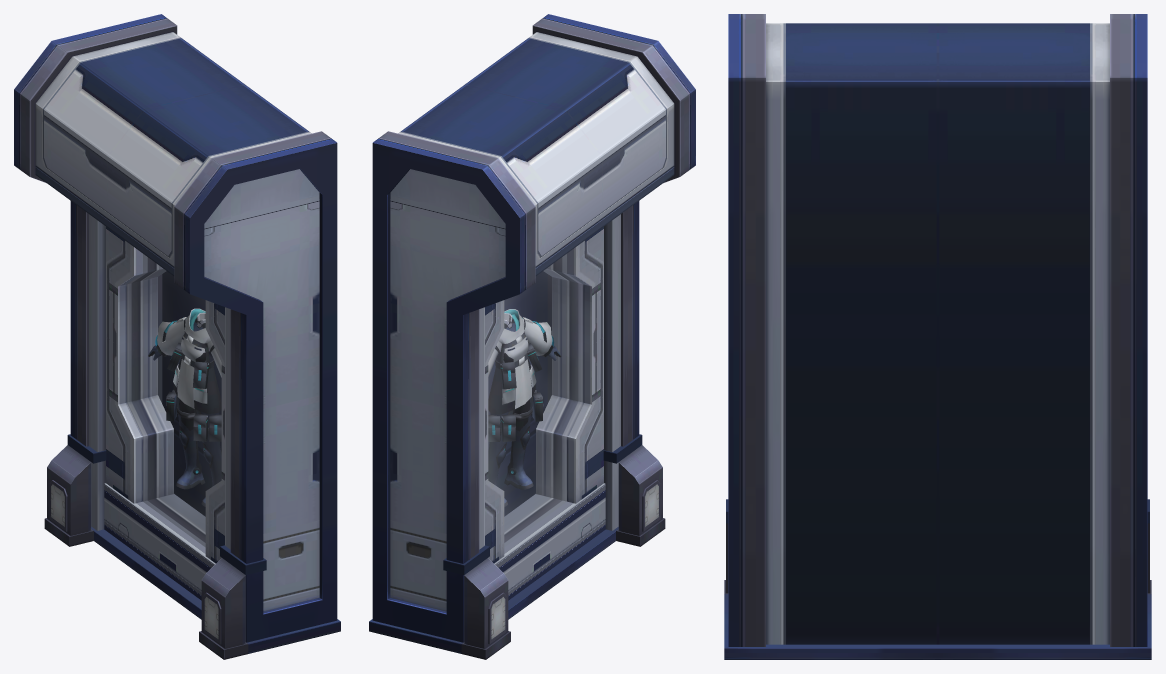
File: my_carrier_01_suitcase_03.glb
3 views of the same model, side by side, from view 1: azimuth 30°, elevation 25°; view 2: azimuth 150°, elevation 25°; view 3: azimuth 270°, elevation 25° (orthographic). The views are drawn at different scales.
Visible parts, largest first — view 1: my_carrier_01_suitcase_03.001, my_carrier_01_suitcase_03_a, my_carrier_01_suitcase_03_suit; view 2: my_carrier_01_suitcase_03.001, my_carrier_01_suitcase_03_a, my_carrier_01_suitcase_03_suit; view 3: my_carrier_01_suitcase_03.001.
Boxes of the visible parts, box(x1,y1,x2,y2) form: my_carrier_01_suitcase_03.001: box(14, 14, 340, 659); my_carrier_01_suitcase_03_a: box(126, 254, 221, 546); my_carrier_01_suitcase_03_suit: box(148, 308, 221, 506); my_carrier_01_suitcase_03.001: box(369, 14, 695, 659); my_carrier_01_suitcase_03_a: box(488, 254, 583, 546); my_carrier_01_suitcase_03_suit: box(488, 309, 561, 506); my_carrier_01_suitcase_03.001: box(724, 14, 1151, 659).
Size of the model in its own units: 0.00574 by 0.0179 by 0.012.
2 materials, 2 textured.
